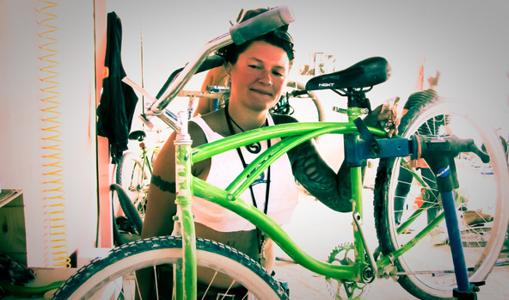person: (132, 6, 401, 300)
